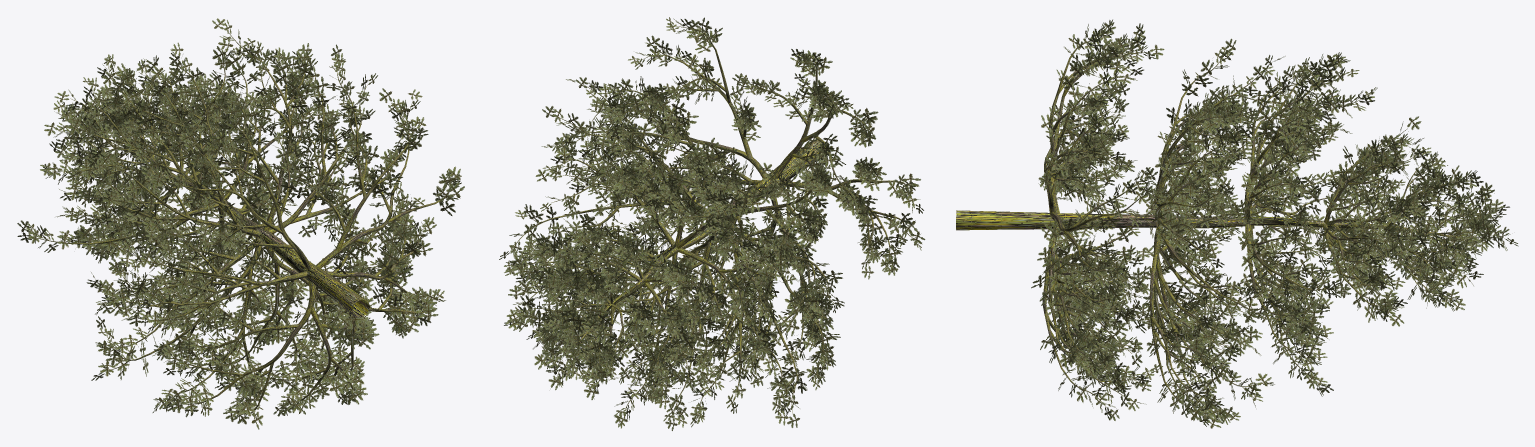
The model's file is Tree.fbx.
The picture shows the model from 3 angles, left to right: view 1: azimuth 30°, elevation 25°; view 2: azimuth 150°, elevation 25°; view 3: azimuth 270°, elevation 25°; orthographic projection. The views are drawn at different scales.
Visible parts, largest first — view 1: leaves, tree; view 2: leaves, tree; view 3: leaves, tree.
Part boxes in pixels (bbox=[...]): leaves: bbox=[17, 18, 464, 429]; tree: bbox=[33, 30, 451, 413]; leaves: bbox=[499, 17, 925, 430]; tree: bbox=[512, 25, 915, 415]; leaves: bbox=[1031, 19, 1518, 428]; tree: bbox=[956, 33, 1504, 413].
Size of the model in its own units: 414 by 405 by 527.
